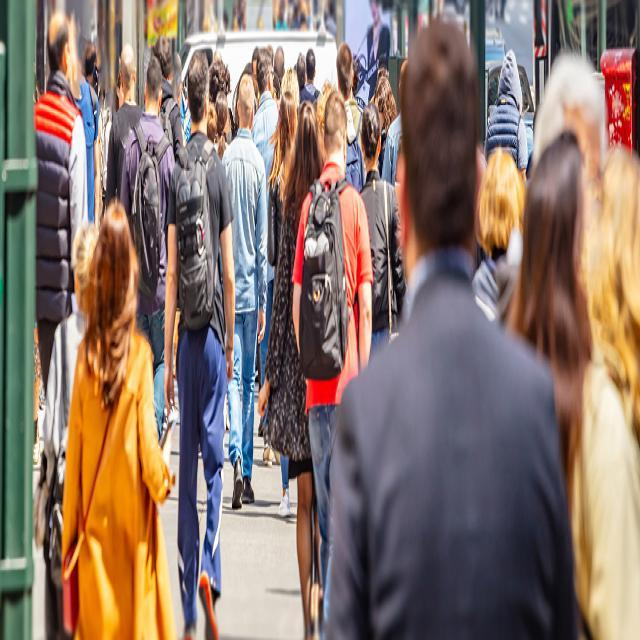Backpacks: (298, 176, 349, 382), (172, 154, 222, 329), (134, 147, 164, 298)
